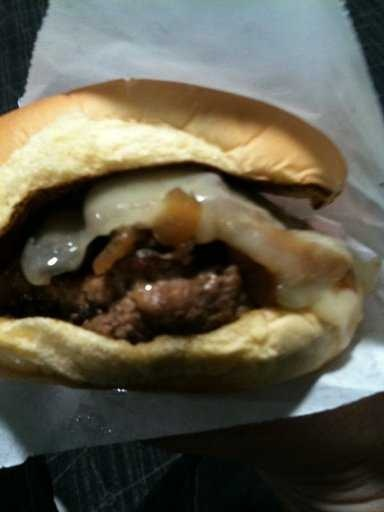hamburger: (1, 74, 354, 370)
